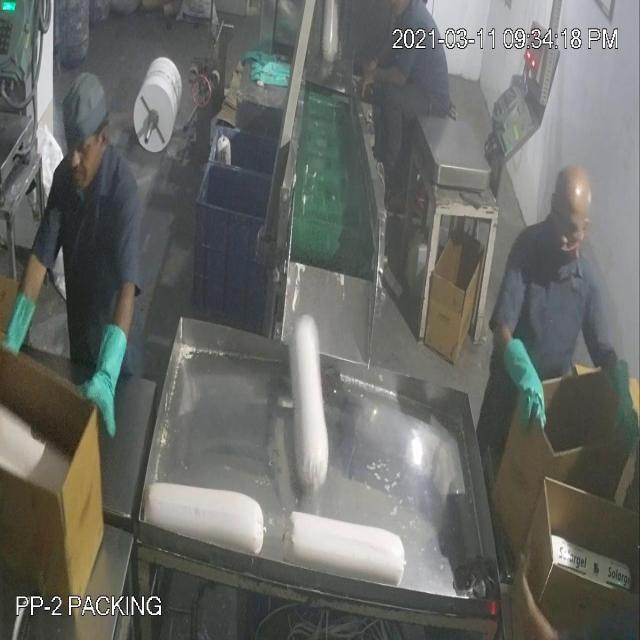gloves: (86, 298, 136, 442), (508, 316, 552, 434), (609, 348, 640, 451)
no-gloves: (353, 54, 407, 102)
